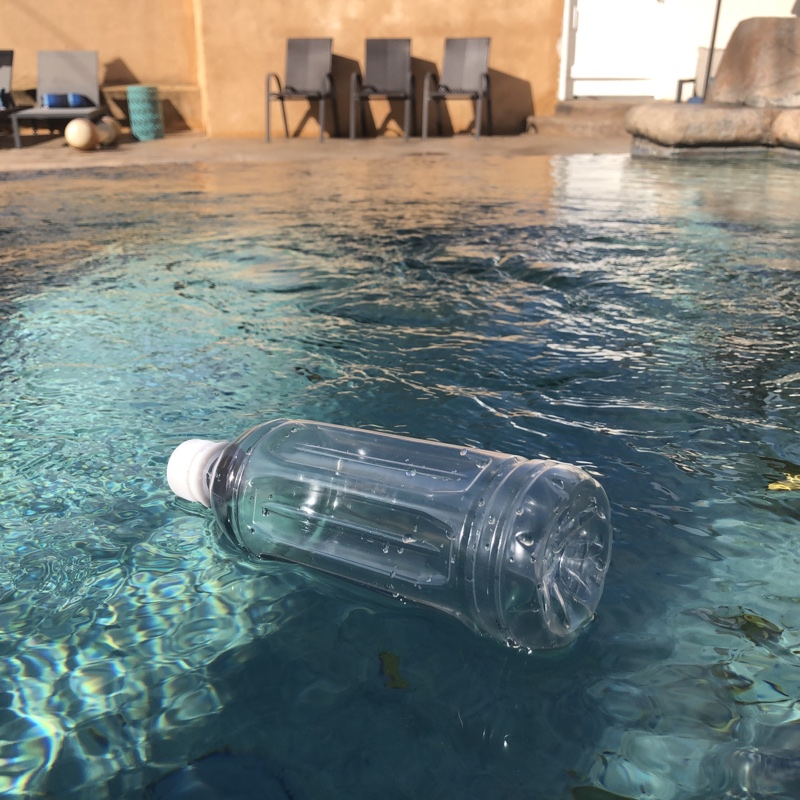Plastic Bottle: (162, 412, 616, 660)
